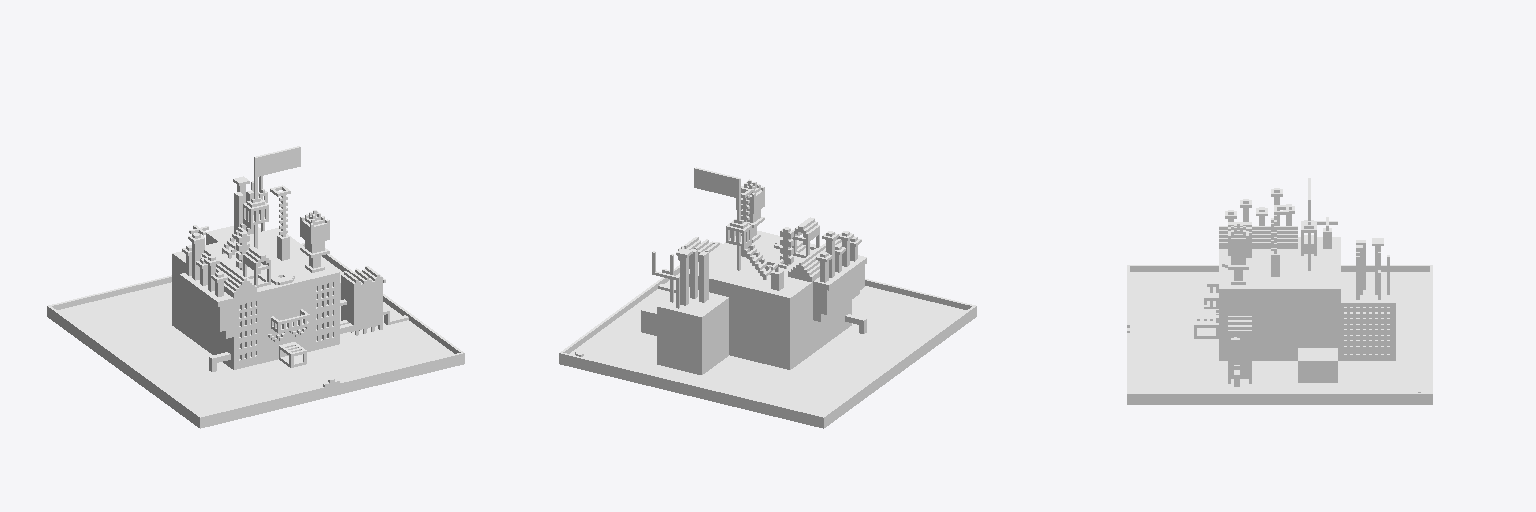
Rendered from willy-wonkas-chocolate-factory.obj.
3 views of the same model, side by side, from view 1: azimuth 30°, elevation 25°; view 2: azimuth 150°, elevation 25°; view 3: azimuth 270°, elevation 25° (orthographic).
Parts seen in each view (by area): view 1: object 1; view 2: object 1; view 3: object 1.
Boxes of the visible parts, x1=… form: object 1: x1=47, y1=146, x2=464, y2=428; object 1: x1=559, y1=167, x2=976, y2=428; object 1: x1=1127, y1=178, x2=1432, y2=404.
Bounding box in the file's own units: 10 × 6.1 × 10.